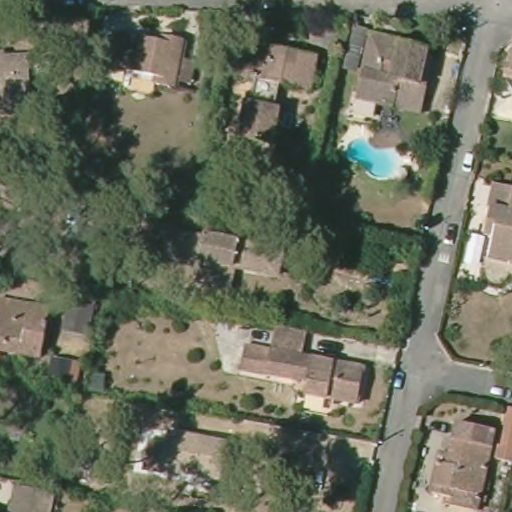pool: (341, 123, 414, 185)
